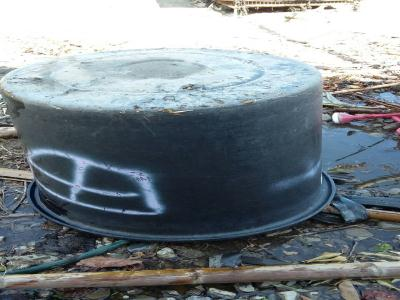bucket: (1, 45, 342, 247)
